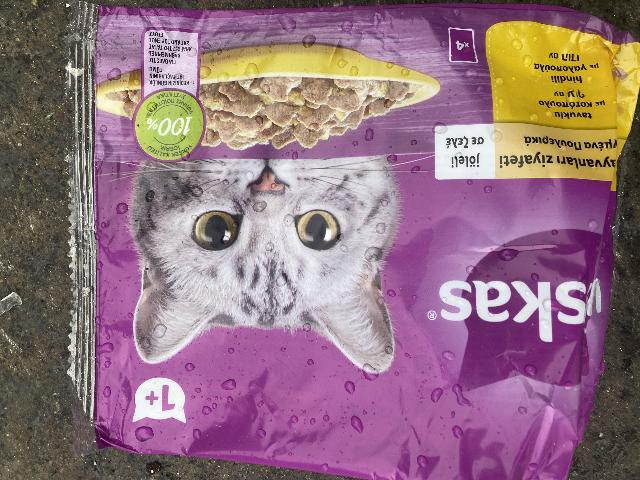Plastik: (68, 0, 640, 480)
